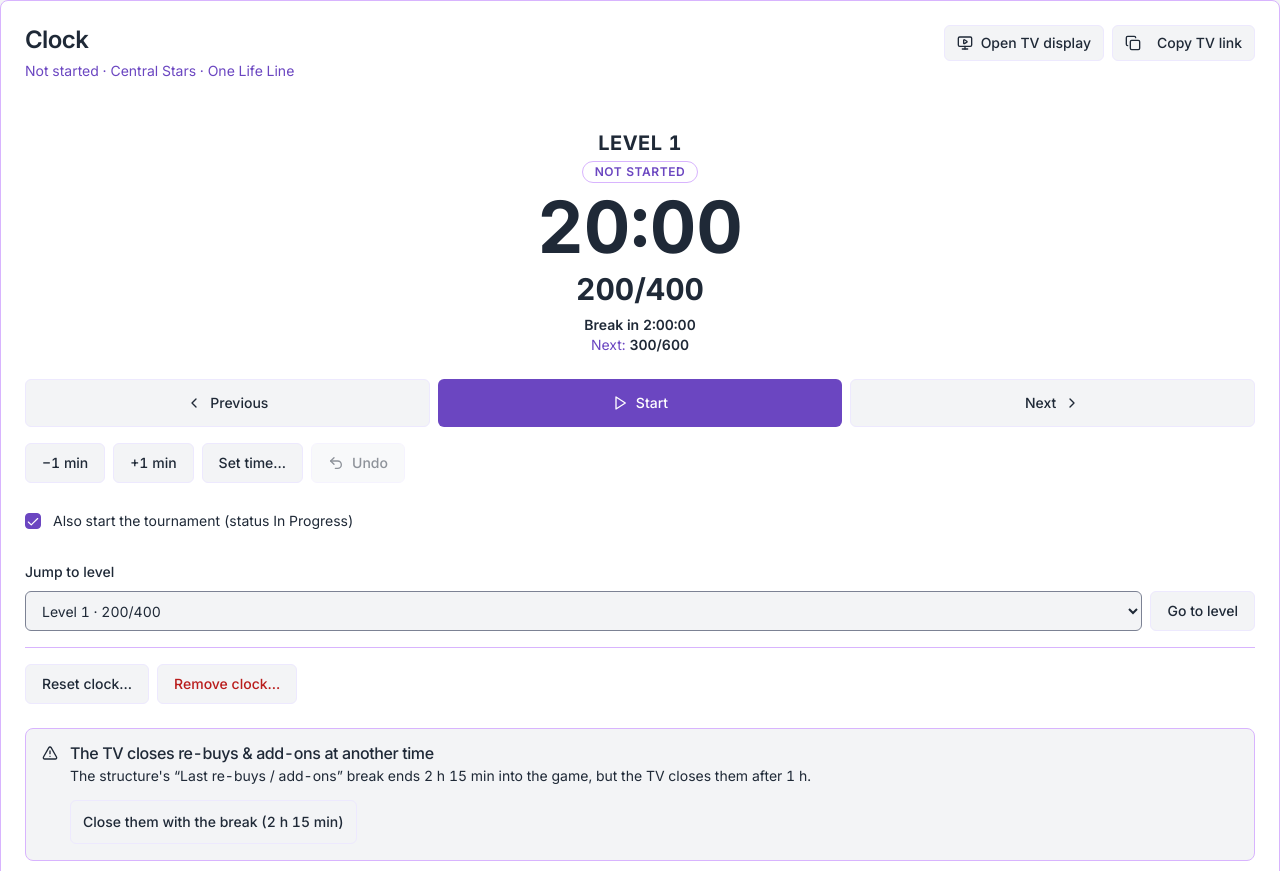
Test: ClockPanel controls › says when the TV would close re-buys before the structure's re-buy break, and lines the two up in one tap (TDN3-REBUY-WINDOW-MISMATCH)
This screenshot has width=1280, height=871.
Expected: the element with test id "rebuy-window-notice" shows "The TV closes re-buys & add-ons at another time", [25,728,1255,861]
Expected: the element with test id "rebuy-window-notice" shows "break ends 2 h 15 min into the game, but the TV closes them after 1 h.", [25,728,1255,861]
Click the button "Close them with the break (2 h 15 min)". click: x=213, y=822
box: [70,800,357,844]
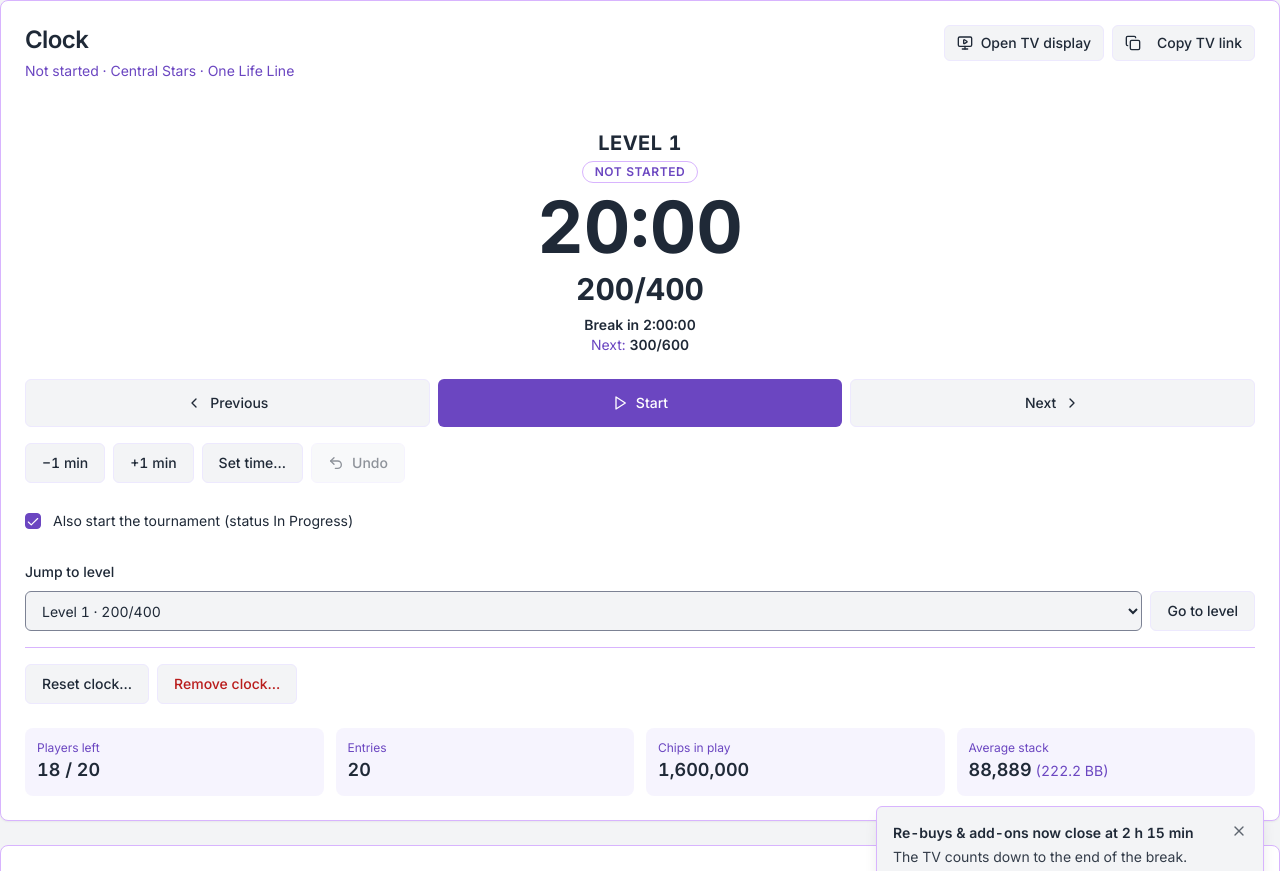
Result: the text "Re-buys & add-ons now close at 2 h 15 min" is shown at [893,823,1215,843]
Result: the element with test id "rebuy-window-notice" is gone
